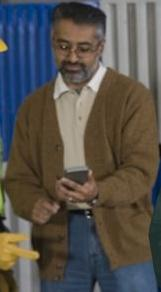gloves: (0, 228, 39, 269)
hard-hat: (0, 0, 42, 54)
vest: (0, 71, 55, 228)
